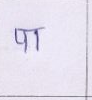aa_matra: (35, 31, 39, 51)
